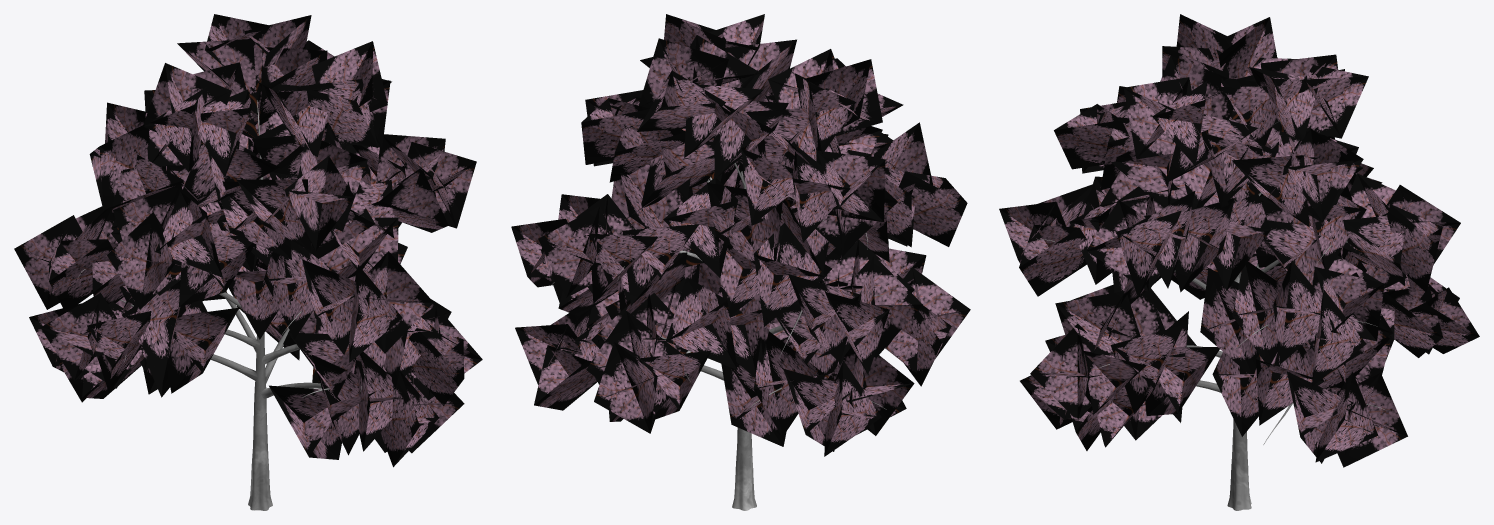
The model's file is SM_tree_01.fbx.
3 views of the same model, side by side, from view 1: azimuth 30°, elevation 25°; view 2: azimuth 150°, elevation 25°; view 3: azimuth 270°, elevation 25° (orthographic).
Visible parts, largest first — view 1: SM_tree_01; view 2: SM_tree_01; view 3: SM_tree_01.
Boxes of the visible parts, x1,y1,x2,y2 form: SM_tree_01: (14,14,482,510); SM_tree_01: (511,14,970,510); SM_tree_01: (999,14,1479,510).
Bounding box in the file's own units: 969 × 1011 × 1067.
Materials: 2 (2 with a texture image).
